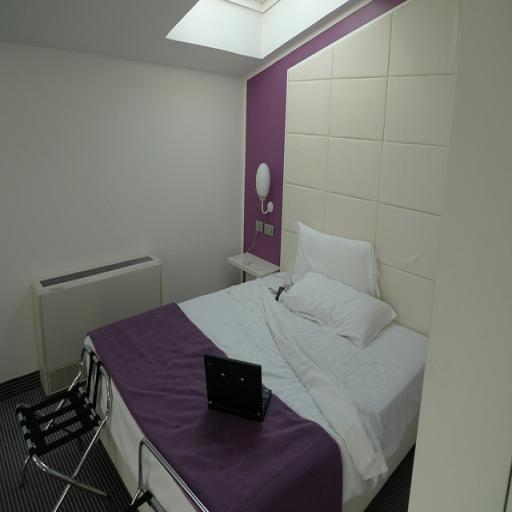bed: (66, 206, 508, 512)
